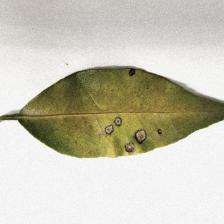canker: (96, 107, 154, 153)
